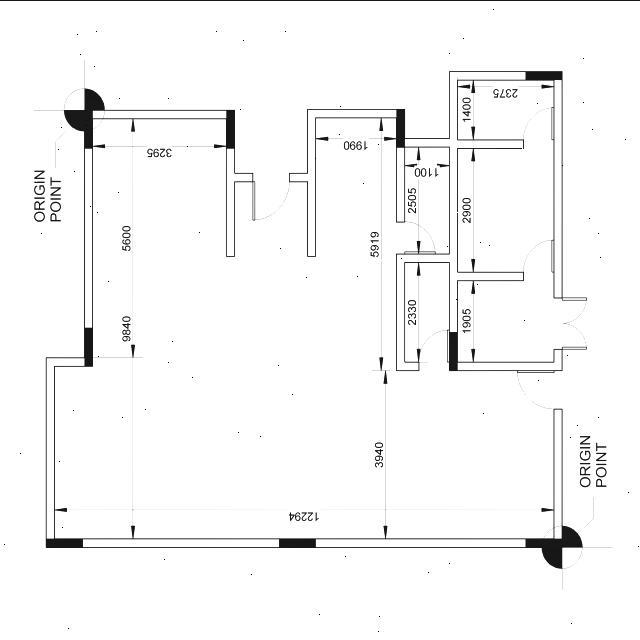Column: (46, 538, 83, 548), (279, 537, 316, 547), (84, 326, 93, 366), (526, 70, 562, 80), (226, 109, 235, 148), (449, 331, 458, 370), (396, 108, 405, 147), (84, 110, 93, 148), (526, 538, 562, 546)
Door: (516, 369, 562, 408), (253, 172, 289, 220), (396, 221, 436, 253), (524, 238, 554, 280), (524, 106, 554, 148), (419, 329, 449, 370)
Double-Door: (554, 296, 586, 348)
